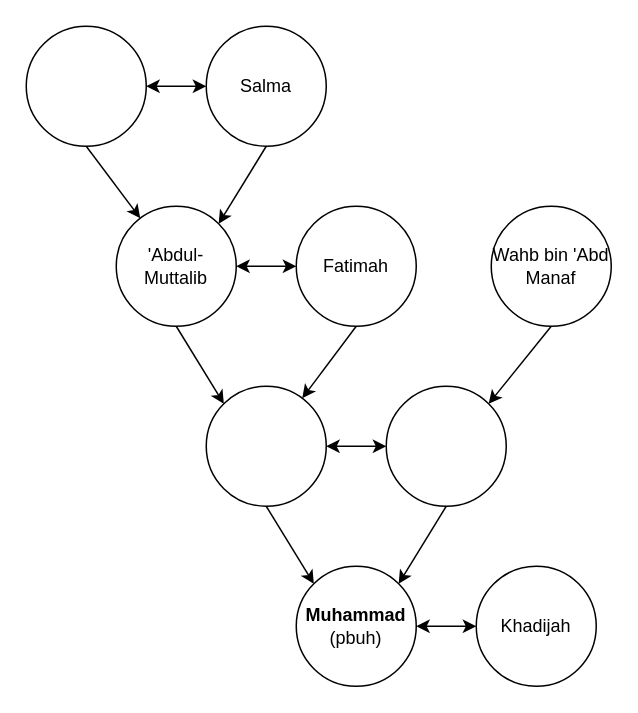
Some shapes in this 638 by 713 pixel diagram are drawn without their labels. Here are the shapes that lost their labels. From the top down, the centre of each, then its label:
At [85,85]: "Hashim".
At [265,445]: "'Abdullah".
At [445,445]: "Aminah".
